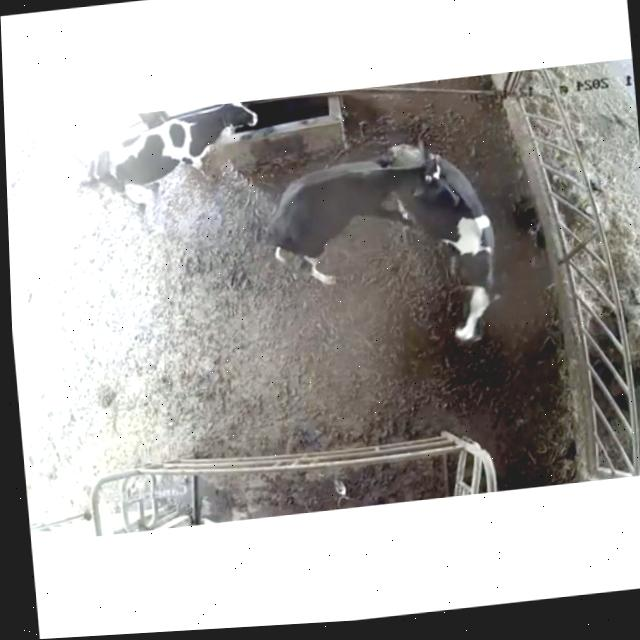ride: (268, 141, 461, 285)
stand: (75, 100, 270, 217), (399, 153, 500, 341), (375, 144, 421, 168)
